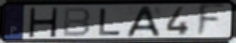4: (164, 6, 192, 37)
A: (125, 5, 163, 38)
B: (61, 6, 92, 38)
F: (195, 3, 228, 40)
H: (26, 6, 60, 38)
L: (97, 7, 124, 37)
